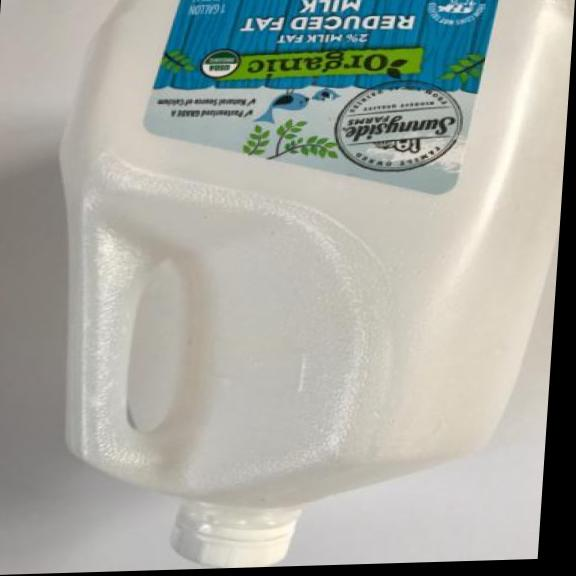Plastik: (30, 0, 576, 574)
